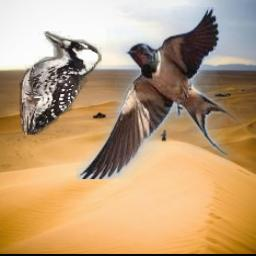Swallow: (77, 7, 245, 179)
Woodpecker: (21, 31, 103, 135)
